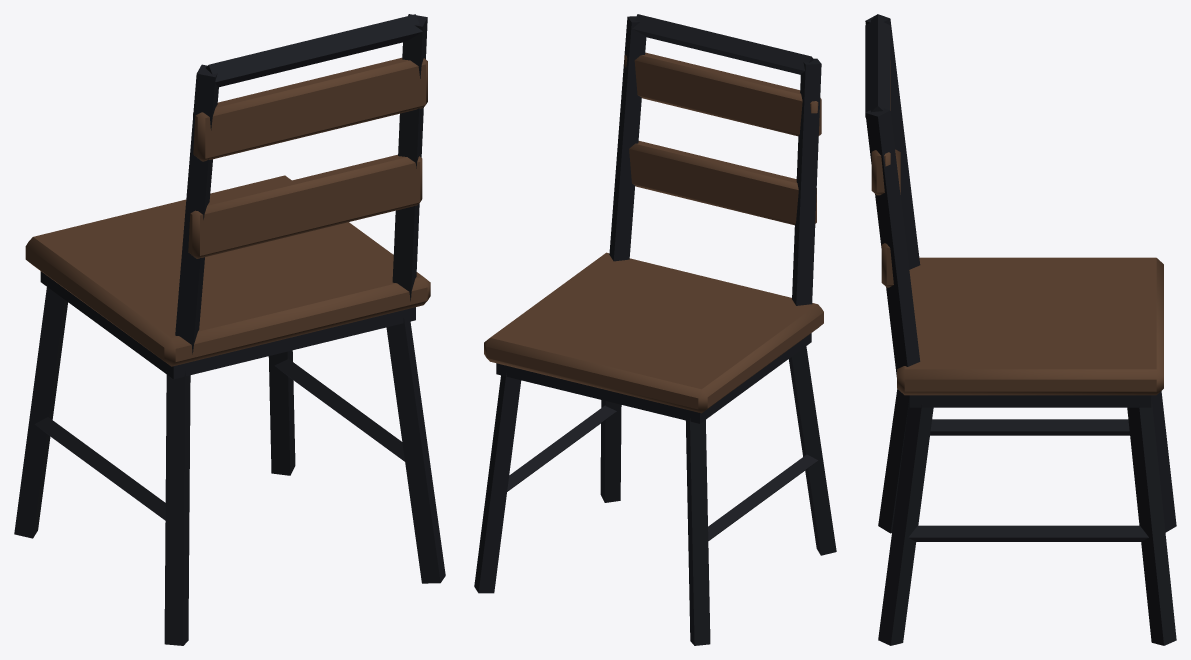
File: seat_cafe-table_v2.glb
The picture shows the model from 3 angles, left to right: view 1: azimuth 30°, elevation 25°; view 2: azimuth 150°, elevation 25°; view 3: azimuth 270°, elevation 25°; orthographic projection. The views are drawn at different scales.
Parts seen in each view (by area): view 1: body; view 2: body; view 3: body.
Part boxes in pixels (box(x1,y1,x2,y2)): body: box(14, 14, 445, 645); body: box(474, 14, 836, 645); body: box(865, 14, 1176, 645).
Size of the model in its own units: 0.4643 by 0.9122 by 0.4895.
